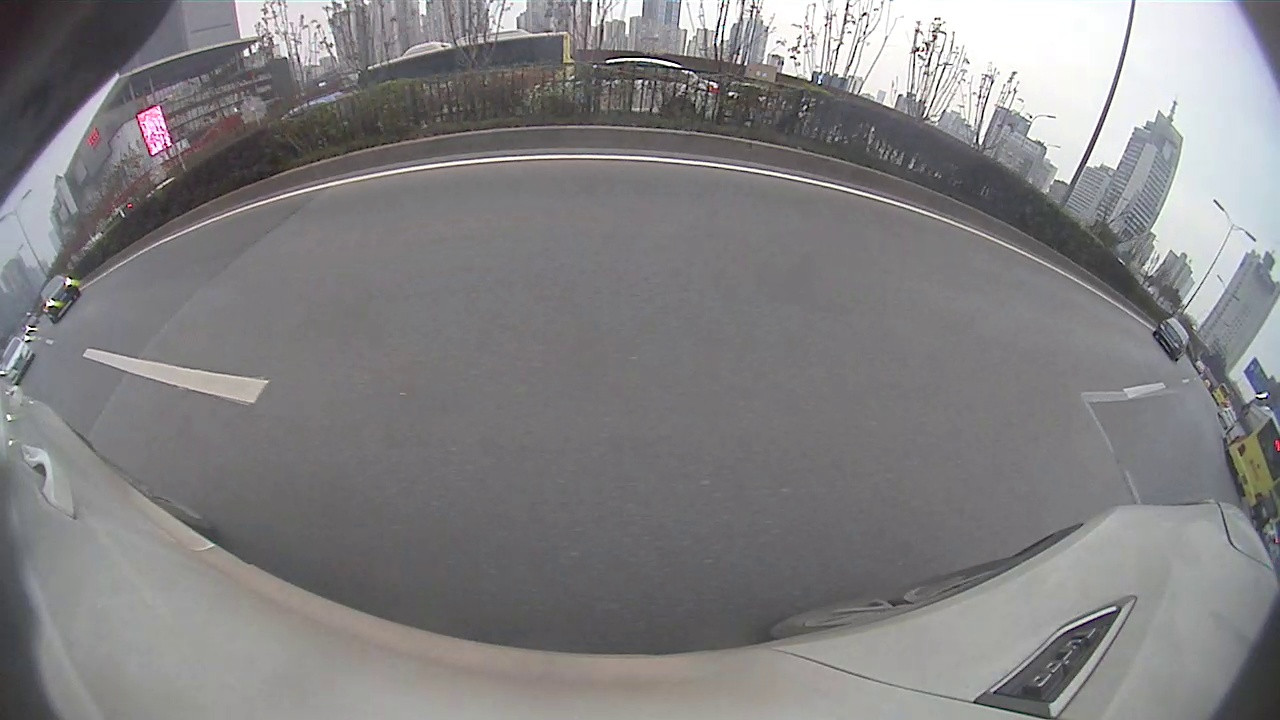bus: (1220, 403, 1279, 509)
car: (36, 273, 81, 322), (1152, 317, 1190, 362)
